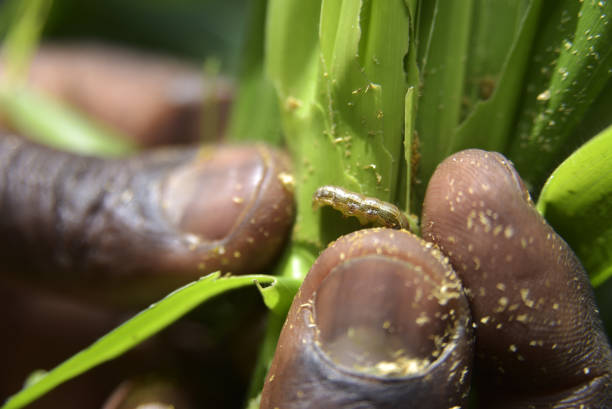Armyworm: (308, 177, 417, 231)
